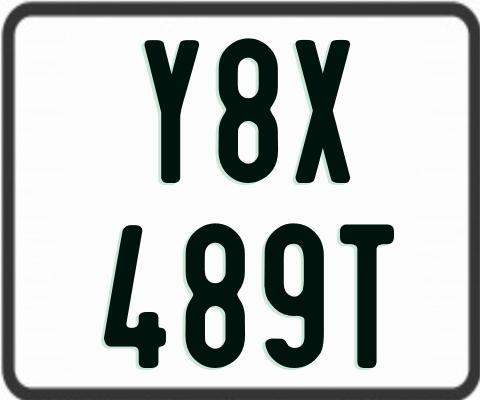4: (103, 223, 166, 366)
8: (216, 36, 278, 184), (183, 223, 245, 370)
9: (264, 222, 326, 368)
T: (339, 222, 396, 369)
X: (293, 37, 348, 185)
Y: (141, 39, 199, 184)
